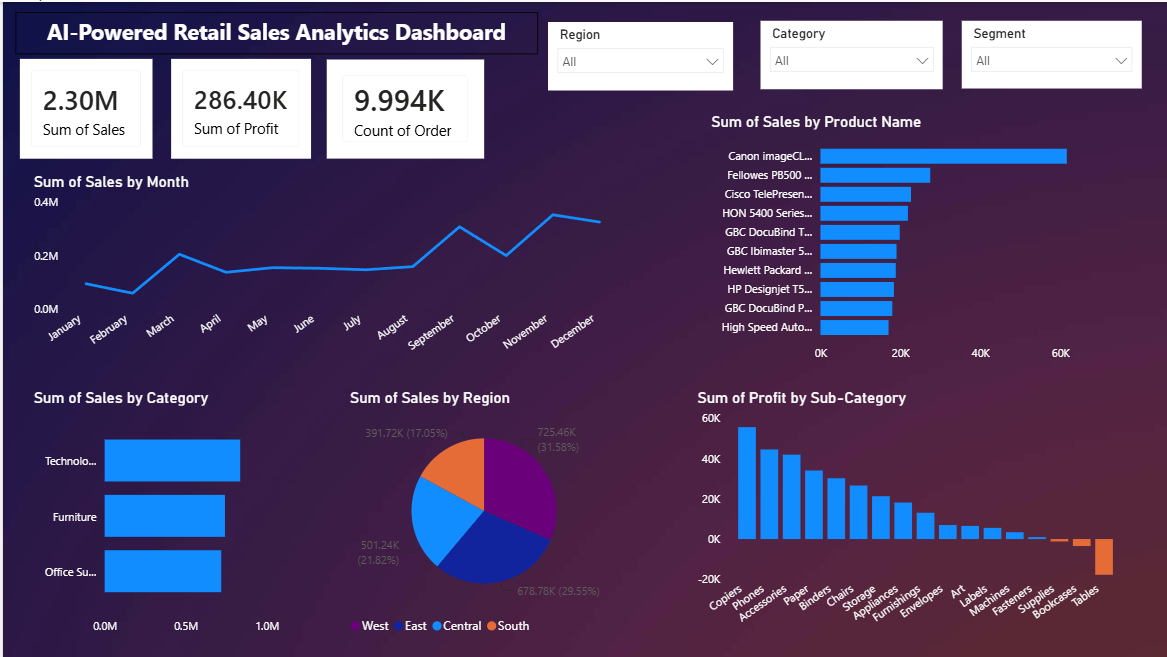

The page's visual inventory and layout, read from the dashboard file:
{"tool":"powerbi","page":{"name":"Page 1","canvas":[1280,720],"ordinal":0},"visuals":[{"type":"clusteredBarChart","fields":{"Y":["Sum(superstore_clean.Sales)"],"Category":["superstore_clean.Category"]},"box":[28.8,424,279.9,279.9],"z":0},{"type":"clusteredColumnChart","fields":{"Category":["superstore_clean.Sub-Category"],"Y":["Sum(superstore_clean.Profit)"]},"box":[757.5,424,476.2,279.9],"z":1000},{"type":"pieChart","fields":{"Category":["superstore_clean.Region"],"Y":["Sum(superstore_clean.Sales)"]},"box":[376,424,304.6,279.9],"z":2000},{"type":"lineChart","fields":{"Category":["superstore_clean.Order Date.Variation.Date Hierarchy.Month"],"Y":["Sum(superstore_clean.Sales)"]},"box":[28.8,186.6,651.8,216.8],"z":3000},{"type":"barChart","fields":{"Y":["Sum(superstore_clean.Sales)"],"Category":["superstore_clean.Product Name"]},"box":[772.6,120.8,447.3,282.7],"z":4000},{"type":"slicer","fields":{"Values":["superstore_clean.Category"]},"box":[831.6,20.6,200.3,75.5],"z":4001},{"type":"slicer","fields":{"Values":["superstore_clean.Region"]},"box":[598.3,22,203.1,75.5],"z":4002},{"type":"slicer","fields":{"Values":["superstore_clean.Segment"]},"box":[1052.5,20.6,197.6,74.1],"z":4003},{"type":"cardVisual","fields":{"Data":["Sum(superstore_clean.Sales)"]},"box":[13.7,57.6,155.1,119.4],"z":4004},{"type":"cardVisual","fields":{"Data":["Sum(superstore_clean.Profit)"]},"box":[179.8,57.6,163.3,119.4],"z":4005},{"type":"cardVisual","fields":{"Data":["CountNonNull(superstore_clean.Order ID)"]},"box":[355.4,63.1,172.9,108.4],"z":4006},{"type":"textbox","box":[13.7,11,573.6,46.7],"z":4007}]}

Visuals, with their boxes in screenshot pixels (x1, y1, x2, y2), scaled from the page's 1280x720 canvas onto the 1167x657 screenshot:
clusteredBarChart - Sum(superstore_clean.Sales) x superstore_clean.Category: crop(26, 387, 281, 642)
clusteredColumnChart - superstore_clean.Sub-Category x Sum(superstore_clean.Profit): crop(691, 387, 1125, 642)
pieChart - superstore_clean.Region x Sum(superstore_clean.Sales): crop(343, 387, 621, 642)
lineChart - superstore_clean.Order Date.Variation.Date Hierarchy.Month x Sum(superstore_clean.Sales): crop(26, 170, 621, 368)
barChart - Sum(superstore_clean.Sales) x superstore_clean.Product Name: crop(704, 110, 1112, 368)
slicer - superstore_clean.Category: crop(758, 19, 941, 88)
slicer - superstore_clean.Region: crop(545, 20, 731, 89)
slicer - superstore_clean.Segment: crop(960, 19, 1140, 86)
cardVisual - Sum(superstore_clean.Sales): crop(12, 53, 154, 162)
cardVisual - Sum(superstore_clean.Profit): crop(164, 53, 313, 162)
cardVisual - CountNonNull(superstore_clean.Order ID): crop(324, 58, 482, 156)
textbox: crop(12, 10, 535, 53)
